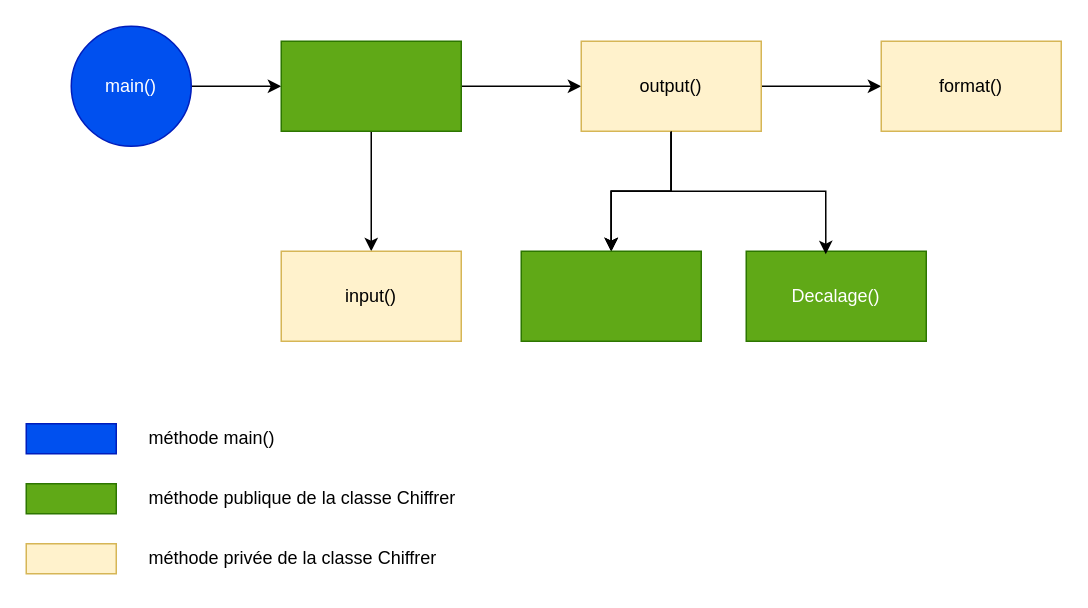
Image size: 1088x608. Some labels were removed from this diagram. Each missing label, with the centre of its shape:
"Analyse()" belongs at (370,85).
"Cryptage()" belongs at (610,295).
